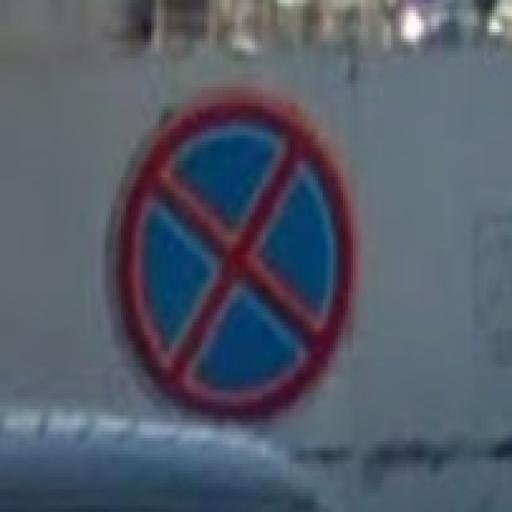traffic_sign: (117, 101, 357, 426)
